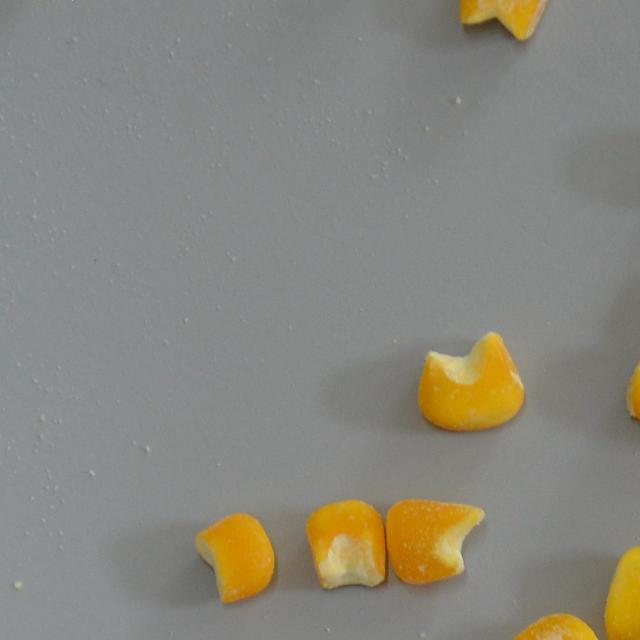no_canjicado: (192, 513, 274, 604), (304, 498, 383, 587)
pelicula: (415, 328, 525, 432), (384, 500, 485, 586), (601, 546, 640, 640), (498, 613, 611, 640), (626, 336, 640, 445)
